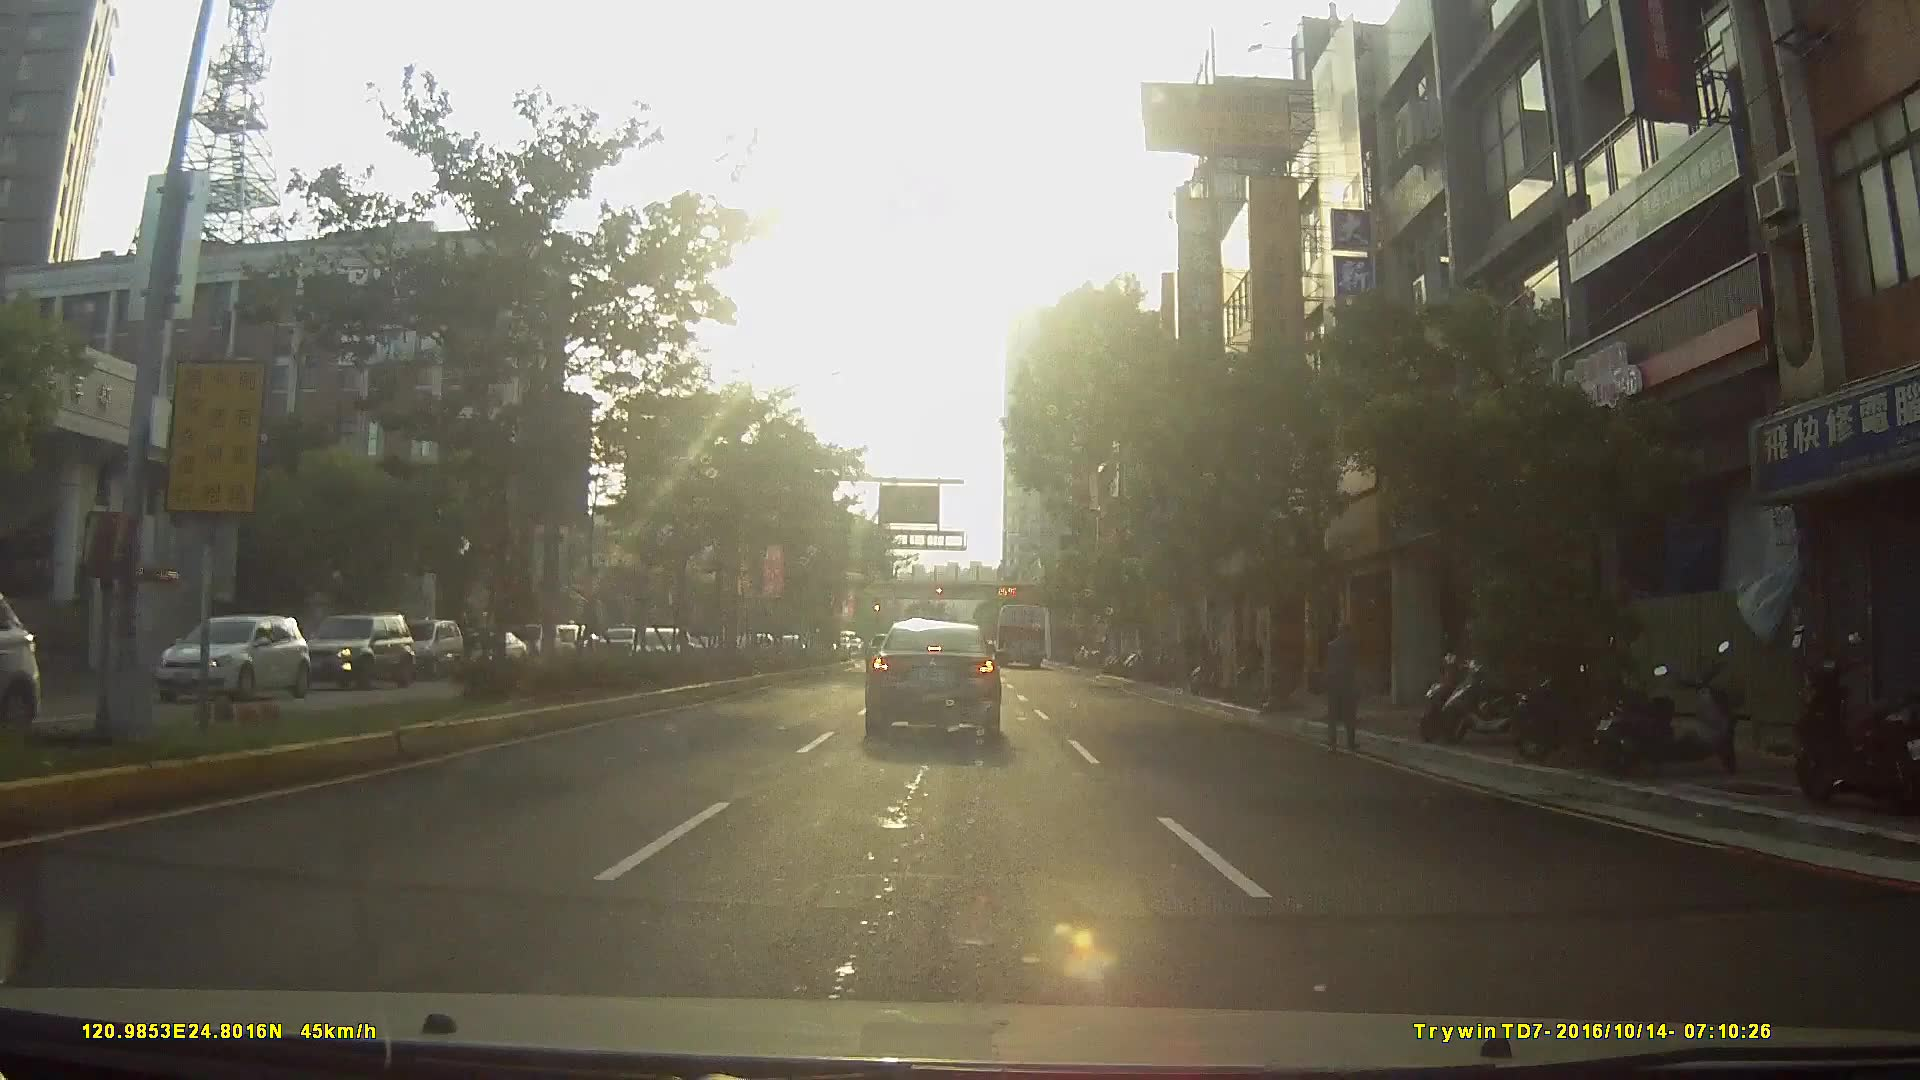pedestrian: (1313, 619, 1367, 755)
vehicle: (137, 611, 323, 709), (862, 618, 1001, 737), (284, 613, 424, 698), (387, 616, 460, 676), (996, 602, 1046, 669)
